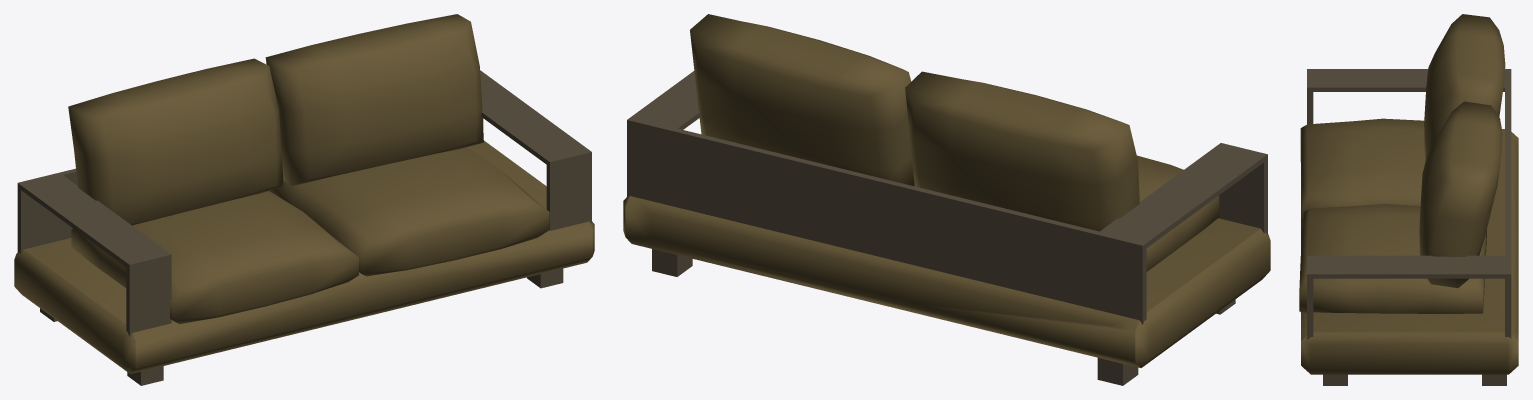
Rendered from quaternius-house-interior-couch-medium-2.glb.
3 views of the same model, side by side, from view 1: azimuth 30°, elevation 25°; view 2: azimuth 150°, elevation 25°; view 3: azimuth 270°, elevation 25° (orthographic). The views are drawn at different scales.
Visible parts, largest first — view 1: Couch_Medium2; view 2: Couch_Medium2; view 3: Couch_Medium2.
Part boxes in pixels (x1,y1,x2,y2): Couch_Medium2: [14, 14, 594, 385]; Couch_Medium2: [623, 14, 1270, 385]; Couch_Medium2: [1299, 14, 1518, 385].
Bounding box in the file's own units: 4.52 × 1.96 × 2.
